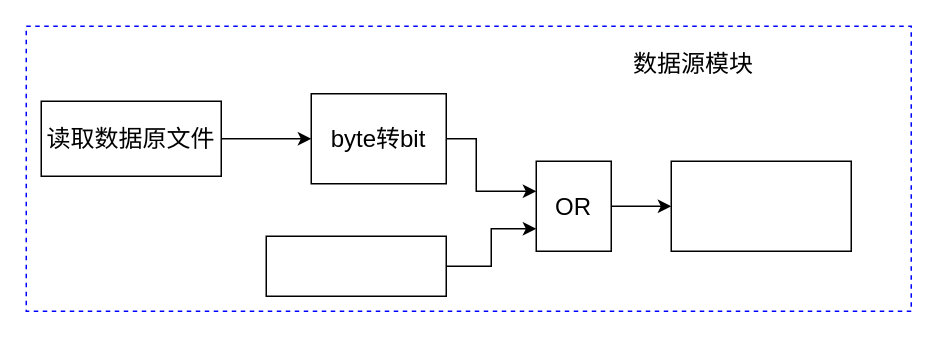
Some shapes in this 938 by 338 pixel diagram are drawn without their labels. Here are the shapes that lost their labels. From the top down, the centre of each, then its label:
At pixel 760 205: "截取头部10000个bit".
At pixel 355 265: "扰码随机数生成".
